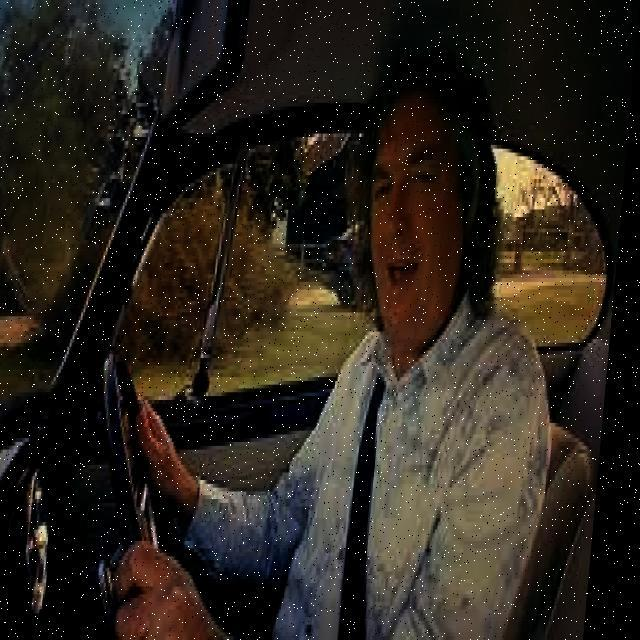seatbelt: (301, 334, 465, 634)
